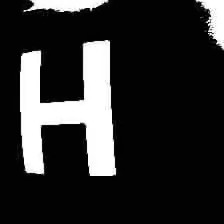LTR_H: (10, 31, 124, 185)
